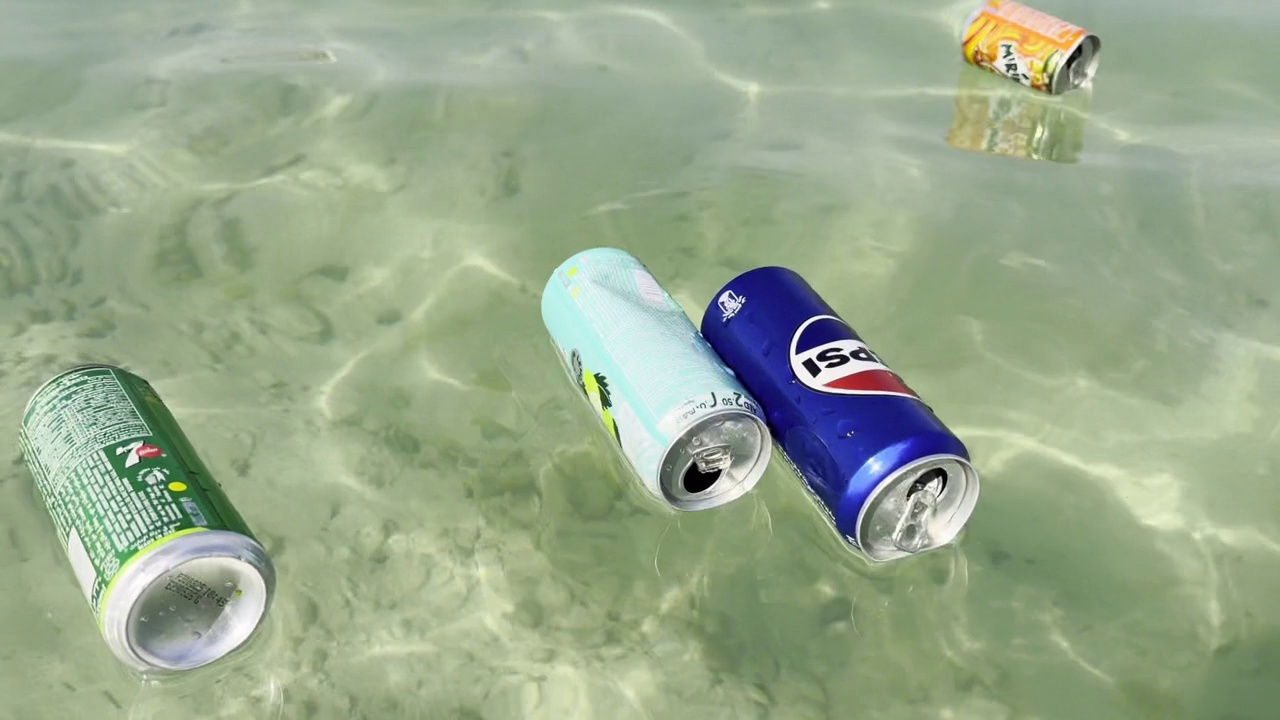debris: (687, 239, 990, 581), (7, 356, 282, 695), (535, 234, 780, 525), (948, 0, 1106, 95)
